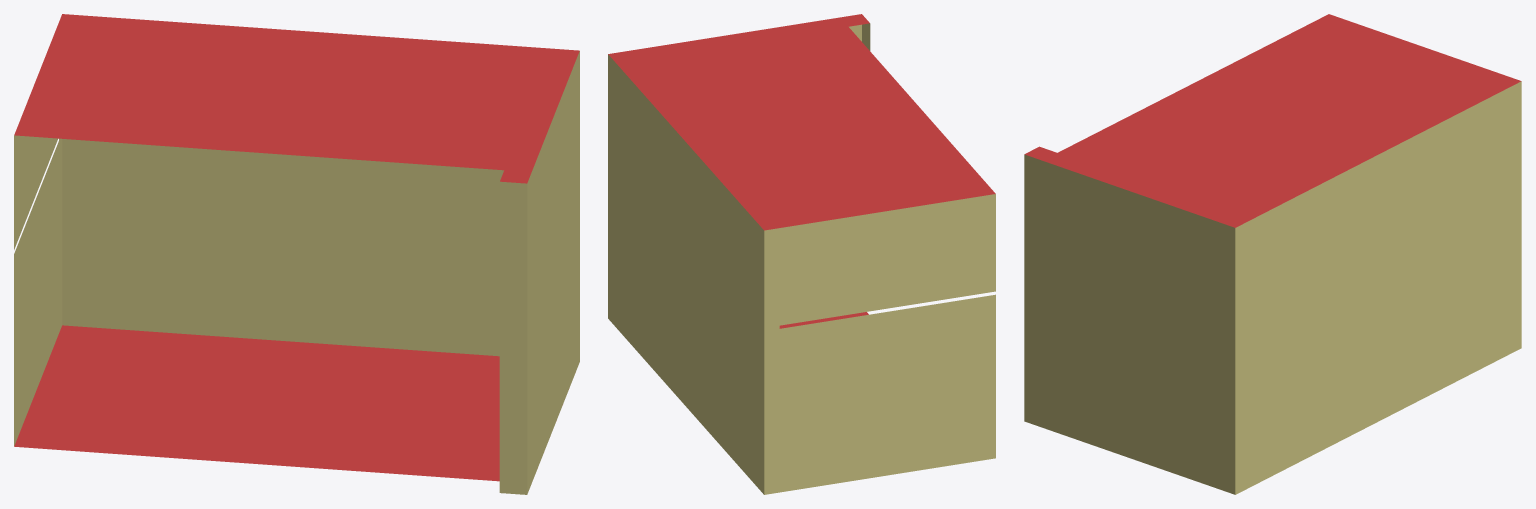
3 views of the same model, side by side, from view 1: azimuth 30°, elevation 25°; view 2: azimuth 150°, elevation 25°; view 3: azimuth 270°, elevation 25° (orthographic). The views are drawn at different scales.
Visible parts, largest first — view 1: group_4, group_3, group_5; view 2: group_4, group_3; view 3: group_4, group_3.
Part boxes in pixels (x1=…): group_4: x1=14, y1=51, x2=579, y2=494; group_3: x1=14, y1=14, x2=579, y2=183; group_5: x1=14, y1=325, x2=499, y2=481; group_4: x1=608, y1=23, x2=995, y2=494; group_3: x1=608, y1=14, x2=995, y2=230; group_4: x1=1024, y1=81, x2=1521, y2=494; group_3: x1=1024, y1=14, x2=1521, y2=227.
Size of the model in its own units: 14.26 by 14.01 by 8.3.
